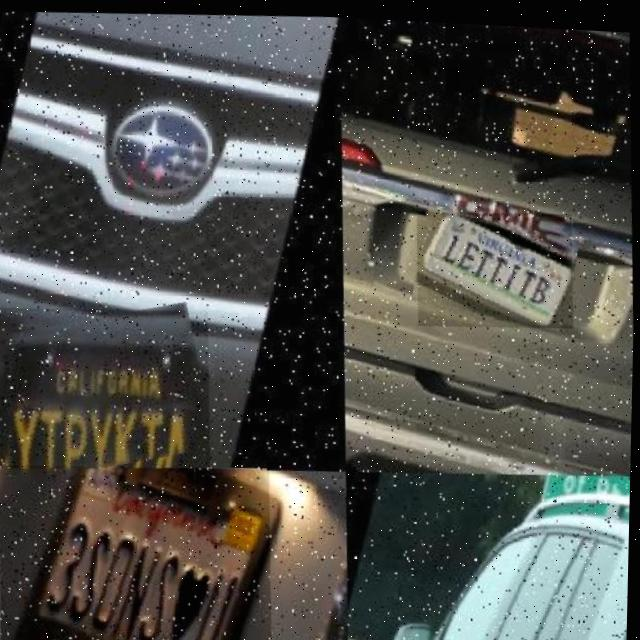LicensePlate: (0, 454, 277, 640), (0, 300, 215, 483), (419, 208, 573, 321)
